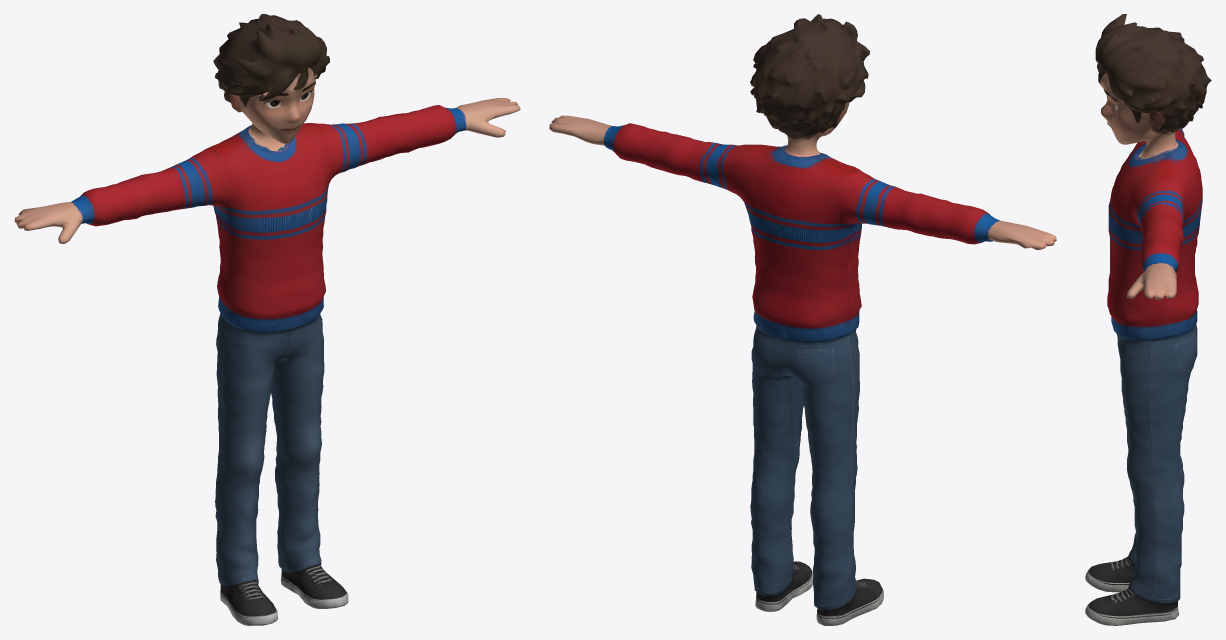
The model's file is mainCharacter.fbx.
3 renders of one model, left to right at view 1: azimuth 30°, elevation 25°; view 2: azimuth 150°, elevation 25°; view 3: azimuth 270°, elevation 25°, orthographic.
Parts seen in each view (by area): view 1: Mesh_0; view 2: Mesh_0; view 3: Mesh_0.
Part boxes in pixels (box(x1,y1,x2,y2)): Mesh_0: box(14, 14, 520, 625); Mesh_0: box(549, 14, 1056, 625); Mesh_0: box(1085, 14, 1211, 625).
Size of the model in its own units: 171 by 190 by 37.96.
1 material, 1 textured.
